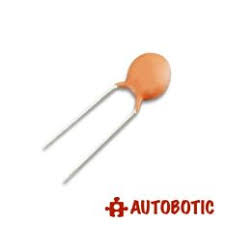ceramic capacitor: (82, 25, 205, 173)
